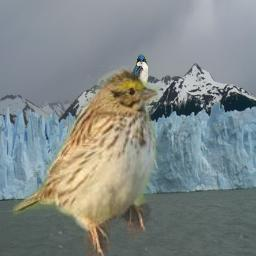Sparrow: (13, 65, 163, 256)
Swallow: (117, 54, 148, 103)
